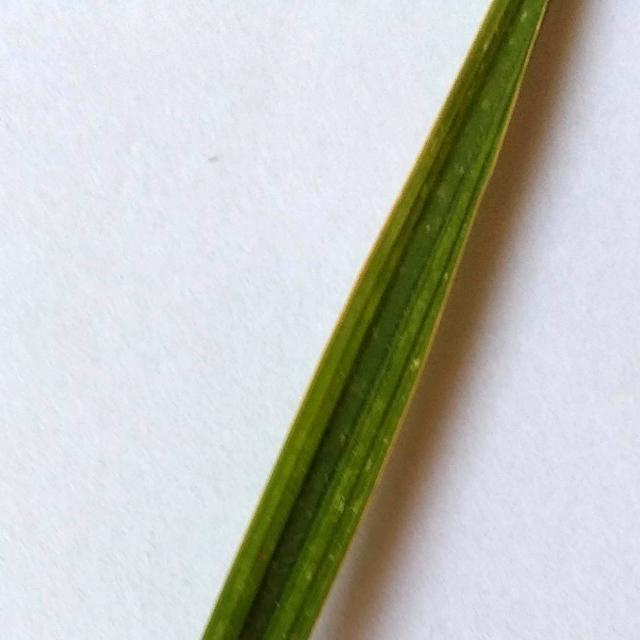Rice_Healthy: (202, 0, 548, 640)
